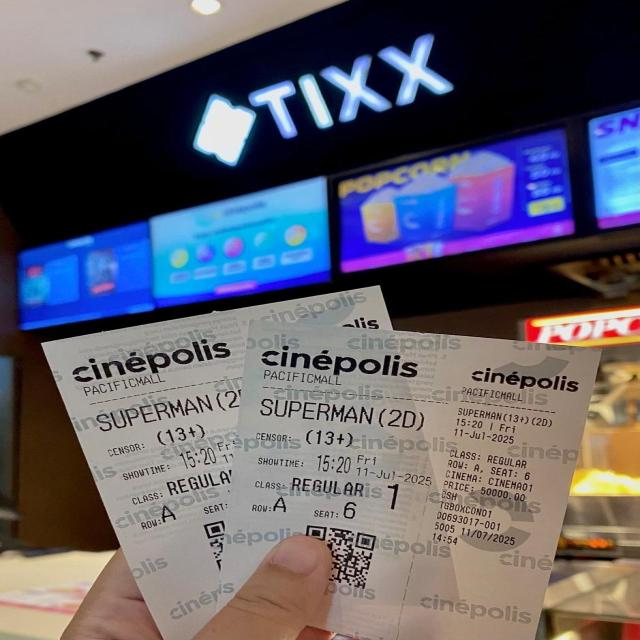date: (256, 452, 440, 490)
store: (259, 339, 436, 391), (457, 366, 595, 403)
total: (442, 479, 536, 505)
